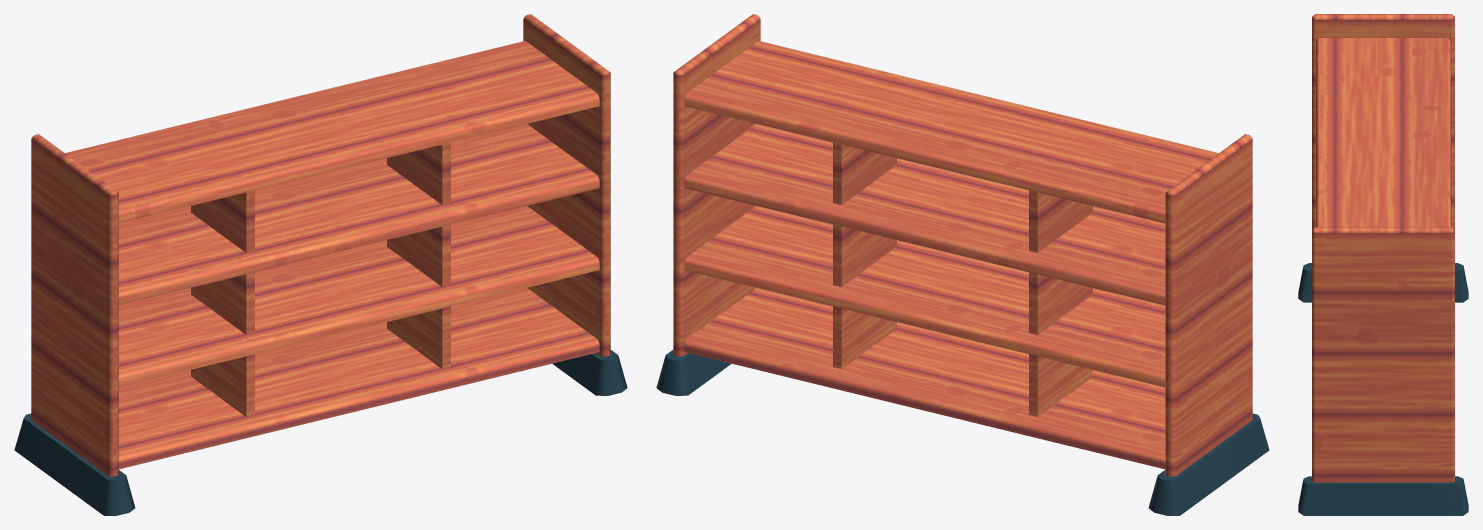
File: Bookshelf.fbx
3 renders of one model, left to right at view 1: azimuth 30°, elevation 25°; view 2: azimuth 150°, elevation 25°; view 3: azimuth 270°, elevation 25°, orthographic. The views are drawn at different scales.
Visible parts, largest first — view 1: Bookshelf; view 2: Bookshelf; view 3: Bookshelf.
Part boxes in pixels (box(x1,y1,x2,y2)): Bookshelf: box(14, 14, 627, 515); Bookshelf: box(656, 14, 1269, 515); Bookshelf: box(1298, 14, 1468, 515).
Size of the model in its own units: 4.6 by 2.66 by 1.46.
